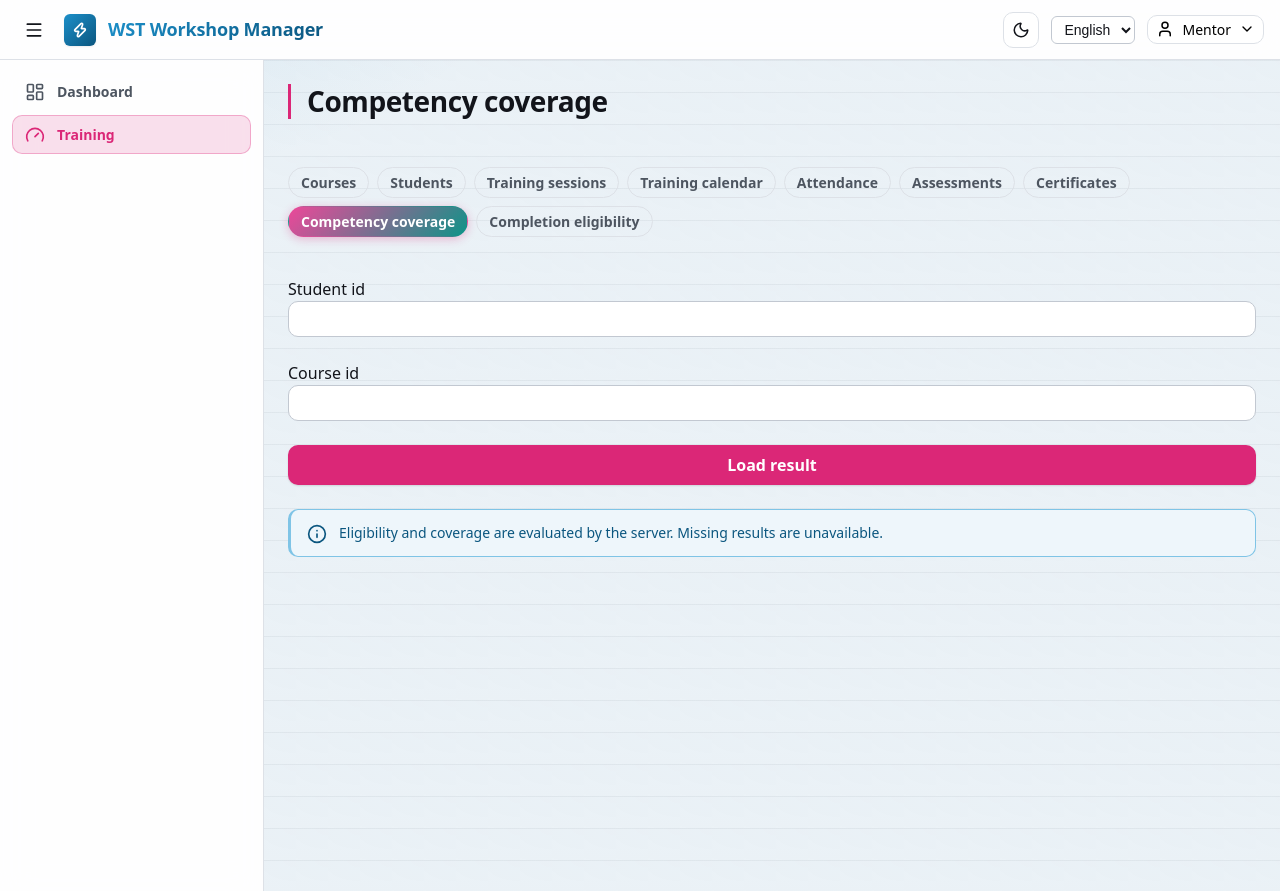
Test: computed results and scheduling › displays server coverage strings unchanged and never calculates missing coverage
In the field labelled "Student id": (772, 319) [288, 301, 1256, 337], type "s1"
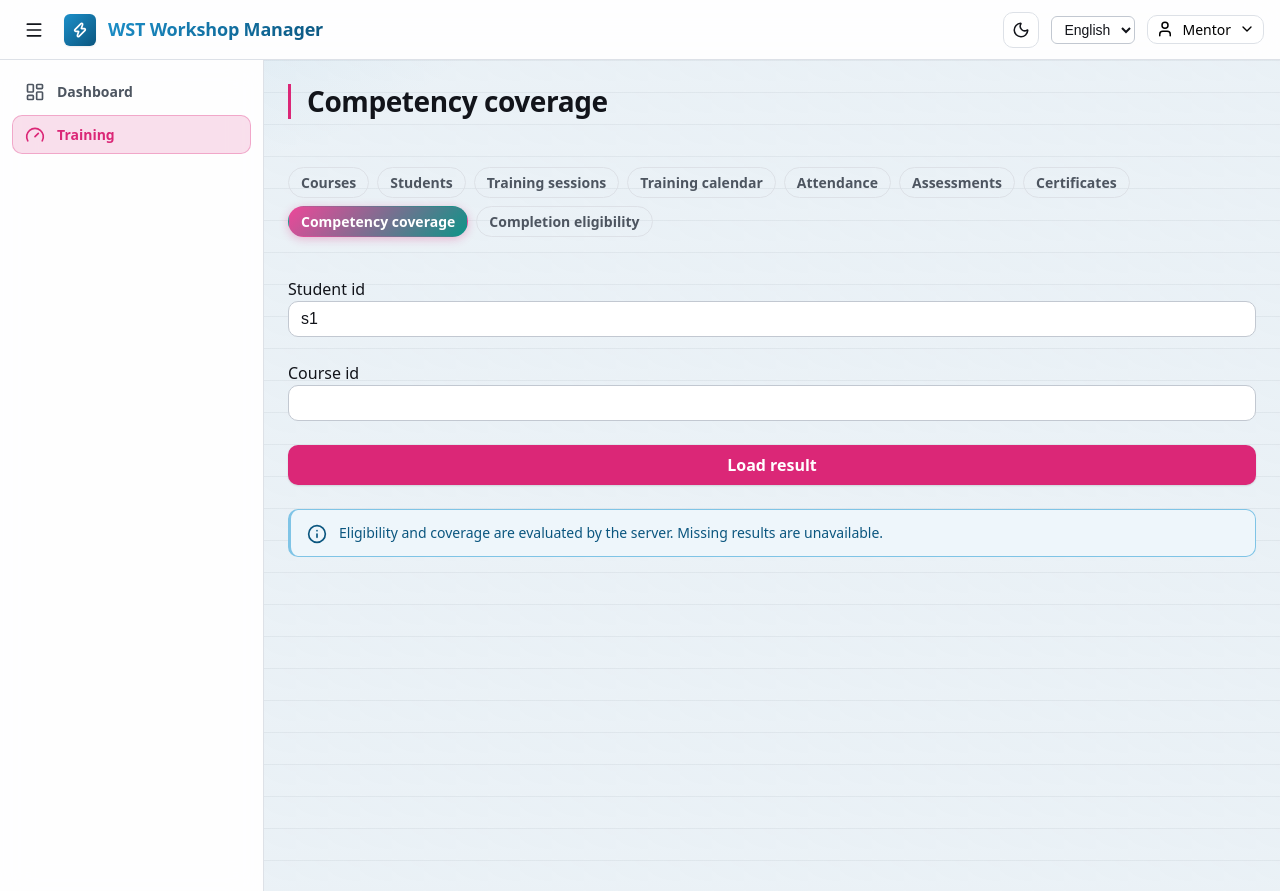
In the field labelled "Course id": (772, 403) [288, 385, 1256, 421], type "c1"
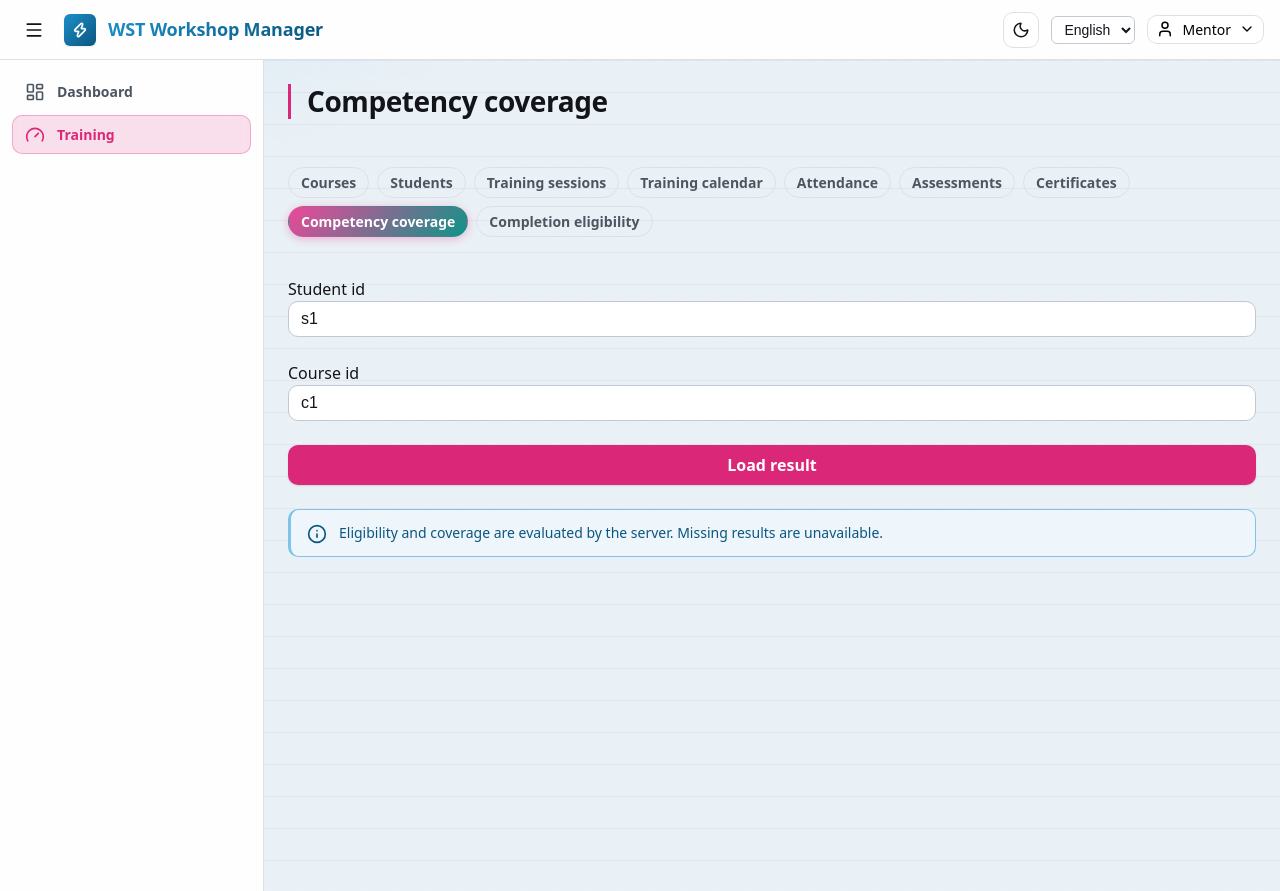
Click the button "Load result": (772, 465) [288, 445, 1256, 485]
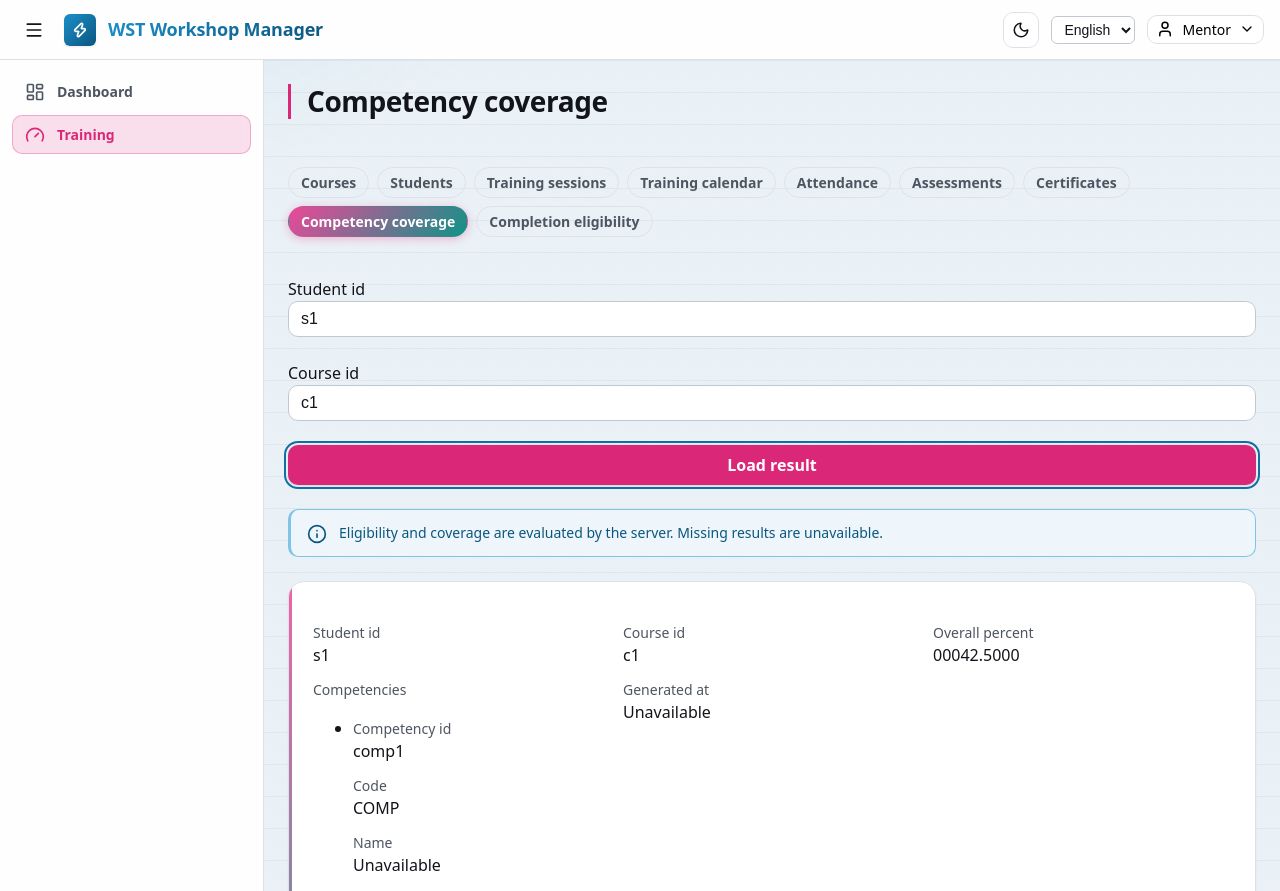
Expected: the text "00042.5000" is shown, [933, 644, 1020, 666]
Expected: the text "Unavailable" below "Name" is shown, [353, 854, 441, 876]
